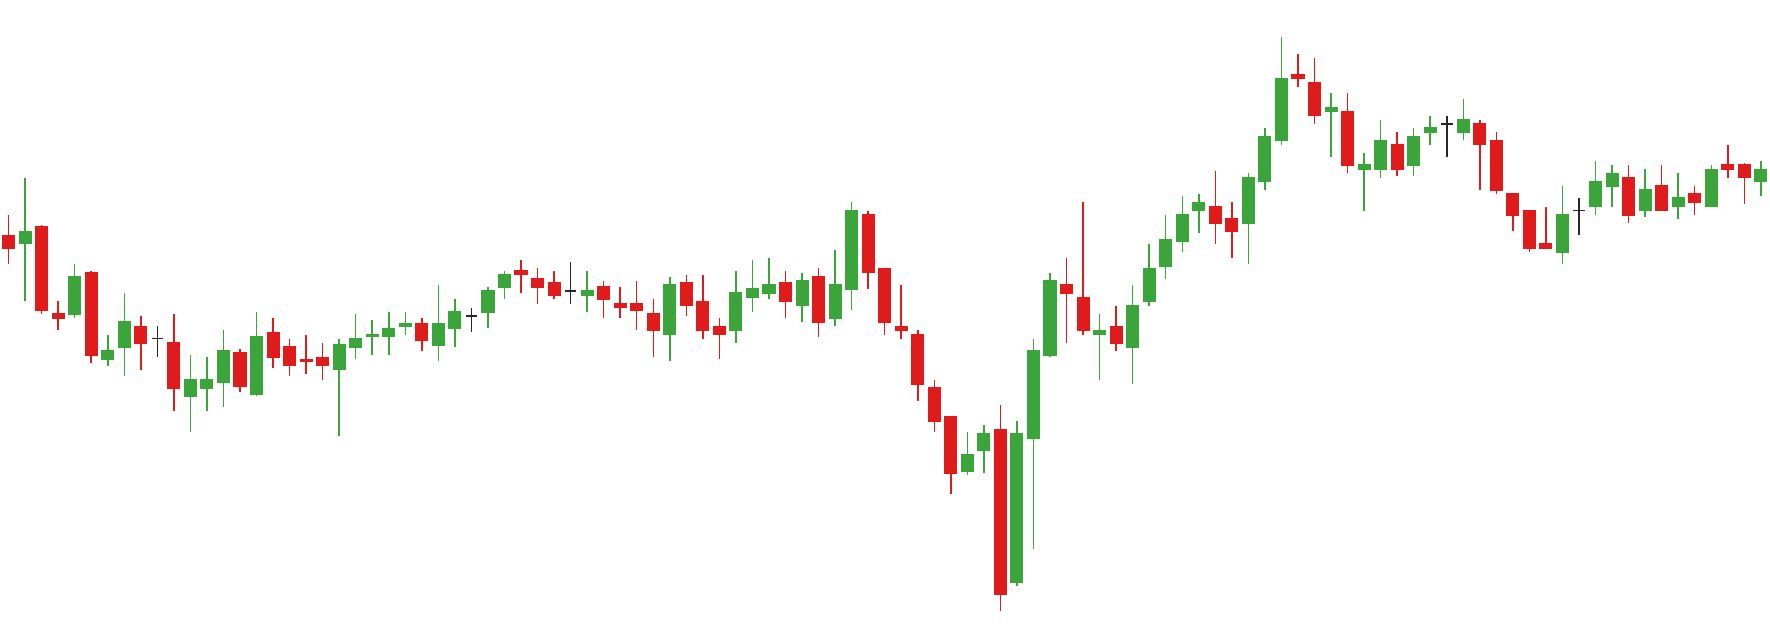sell: (747, 197, 875, 314)
